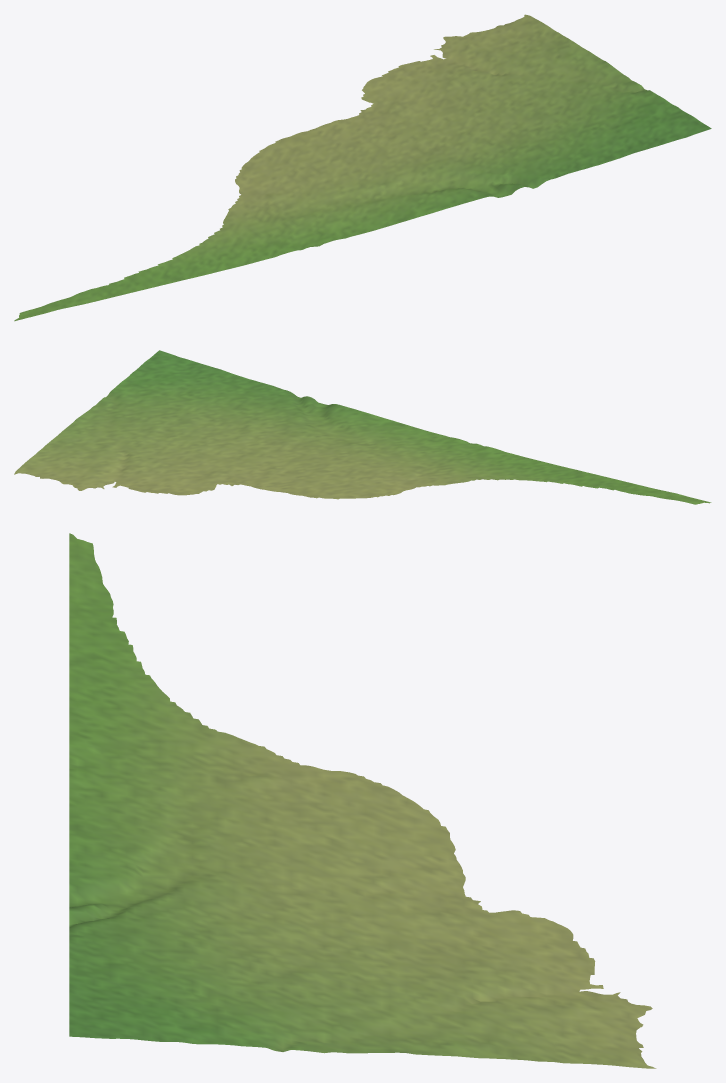
Rendered from lareunion-terrain-1.glb.
3 views of the same model, one above another, from view 1: azimuth 30°, elevation 25°; view 2: azimuth 150°, elevation 25°; view 3: azimuth 270°, elevation 25° (orthographic). The views are drawn at different scales.
Visible parts, largest first — view 1: LaReunionRgeAltiTerrain_1; view 2: LaReunionRgeAltiTerrain_1; view 3: LaReunionRgeAltiTerrain_1.
Part boxes in pixels (x1,y1,x2,y2): LaReunionRgeAltiTerrain_1: (14, 14, 711, 321); LaReunionRgeAltiTerrain_1: (14, 350, 711, 504); LaReunionRgeAltiTerrain_1: (69, 533, 656, 1068).
Size of the model in its own units: 55.11 by 1.73 by 25.38.
